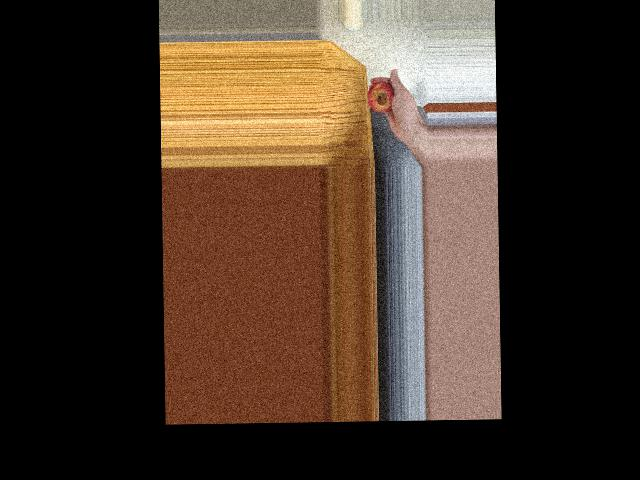apple: (366, 80, 396, 116)
